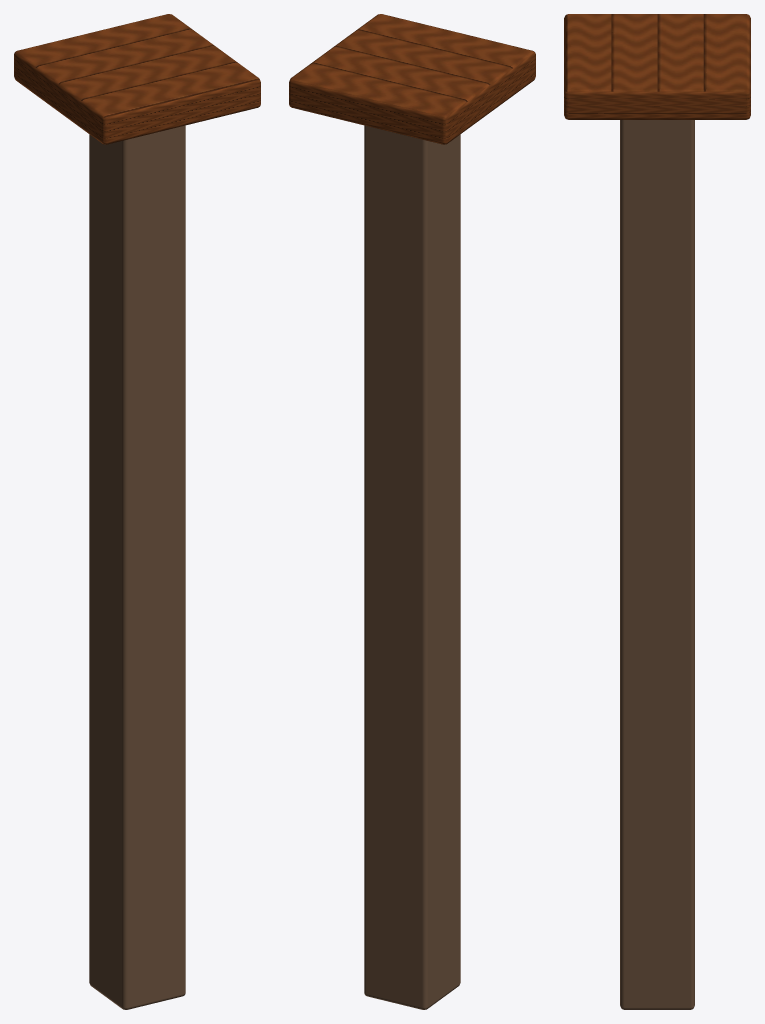
Rendered from adventurers-tavern-and-guild-hall-mezzanine-support-po-ca0616ef__24685.glb.
3 views of the same model, side by side, from view 1: azimuth 30°, elevation 25°; view 2: azimuth 150°, elevation 25°; view 3: azimuth 270°, elevation 25° (orthographic).
Parts seen in each view (by area): view 1: mezzanine-support-post; view 2: mezzanine-support-post; view 3: mezzanine-support-post.
Part boxes in pixels (x1,y1,x2,y2): mezzanine-support-post: (14, 14, 260, 1009); mezzanine-support-post: (289, 14, 535, 1009); mezzanine-support-post: (564, 14, 750, 1009).
Bounding box in the file's own units: 0.5 × 2.79 × 0.5.
2 materials, 1 textured.
